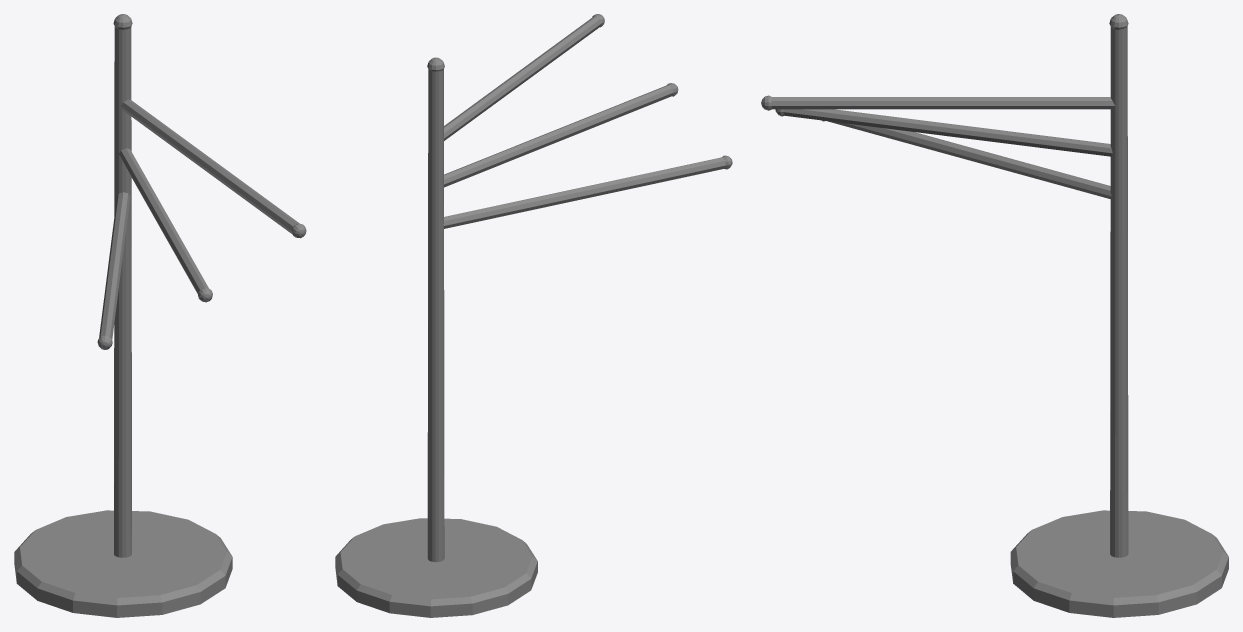
The model's file is Towel Stand.fbx.
3 renders of one model, left to right at view 1: azimuth 30°, elevation 25°; view 2: azimuth 150°, elevation 25°; view 3: azimuth 270°, elevation 25°, orthographic. The views are drawn at different scales.
Parts seen in each view (by area): view 1: Towel Stand; view 2: Towel Stand; view 3: Towel Stand.
Boxes of the visible parts, bbox=[...] form: Towel Stand: bbox=[14, 14, 306, 617]; Towel Stand: bbox=[335, 14, 732, 617]; Towel Stand: bbox=[761, 14, 1228, 617].
Bounding box in the file's own units: 73.74 × 147 × 112.
